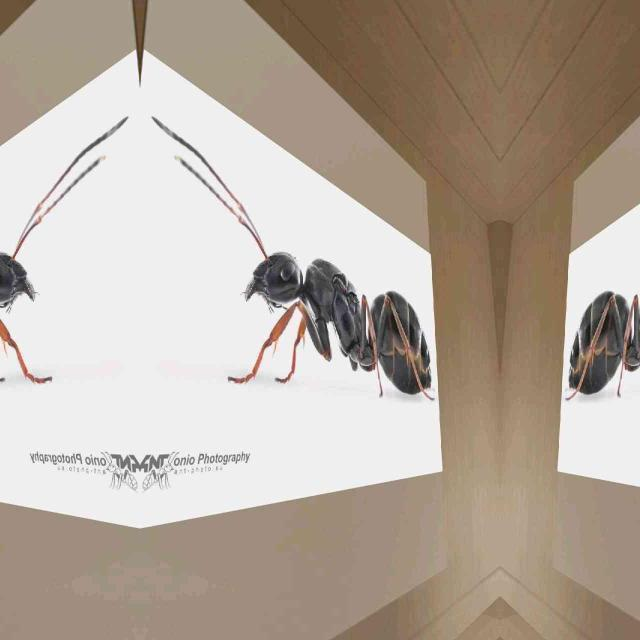Formica: (198, 147, 500, 451), (500, 147, 640, 451), (0, 147, 80, 451)
